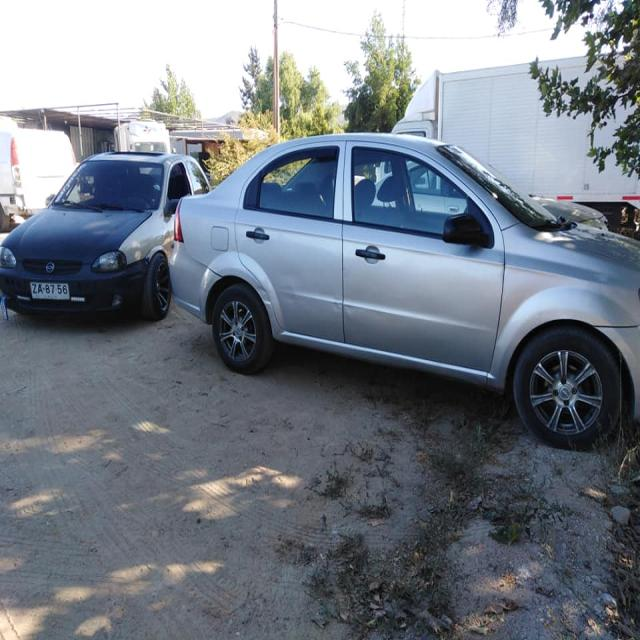patente: (29, 280, 70, 300)
